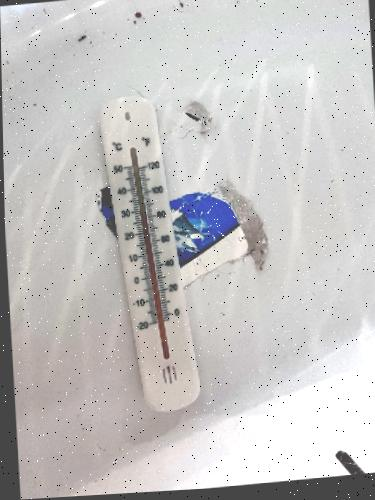thermo: (95, 93, 204, 410)
